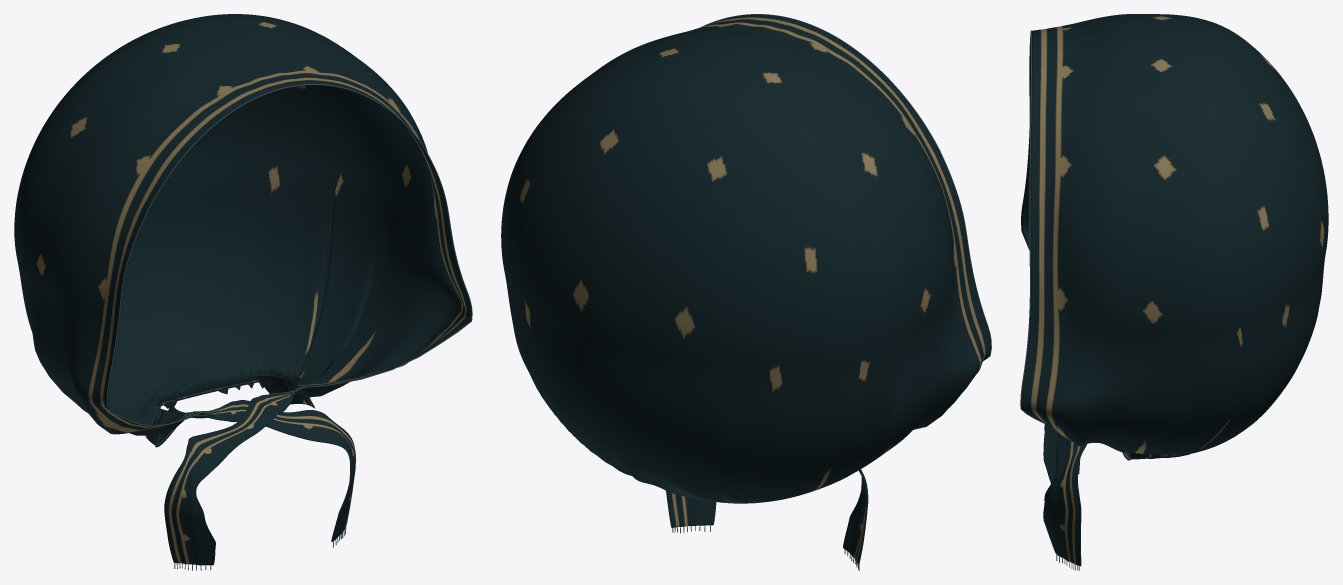
Rendered from Feminine-twin-braids-jersey-pashmina250-headgear.glb.
3 renders of one model, left to right at view 1: azimuth 30°, elevation 25°; view 2: azimuth 150°, elevation 25°; view 3: azimuth 270°, elevation 25°, orthographic. The views are drawn at different scales.
Visible parts, largest first — view 1: 226 headgear / Headwear / continuous woven pashmina239, 226 headgear / Headwear / face edge239; view 2: 226 headgear / Headwear / continuous woven pashmina239, 226 headgear / Headwear / face edge239; view 3: 226 headgear / Headwear / continuous woven pashmina239, 226 headgear / Headwear / face edge239.
Part boxes in pixels (<box>): 226 headgear / Headwear / continuous woven pashmina239: <box>14,14,471,565</box>; 226 headgear / Headwear / face edge239: <box>107,84,472,426</box>; 226 headgear / Headwear / continuous woven pashmina239: <box>501,14,990,564</box>; 226 headgear / Headwear / face edge239: <box>700,14,991,359</box>; 226 headgear / Headwear / continuous woven pashmina239: <box>1021,14,1328,566</box>; 226 headgear / Headwear / face edge239: <box>1020,30,1045,423</box>.
Size of the model in its own units: 1.1 by 1.37 by 0.7747.
Materials: 3 (1 with a texture image).
